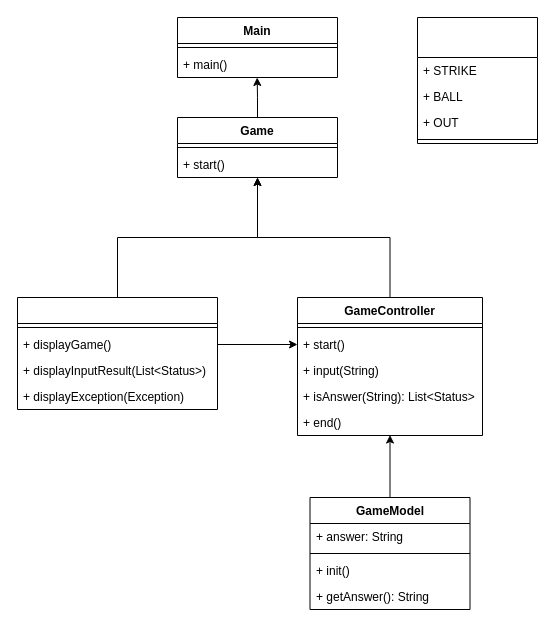
This 555x630 diagram has some shape labels left out. Each missing label, with the box of its shape:
<<Enum>> Status: (416, 16, 538, 144)
GameView: (16, 296, 218, 410)
